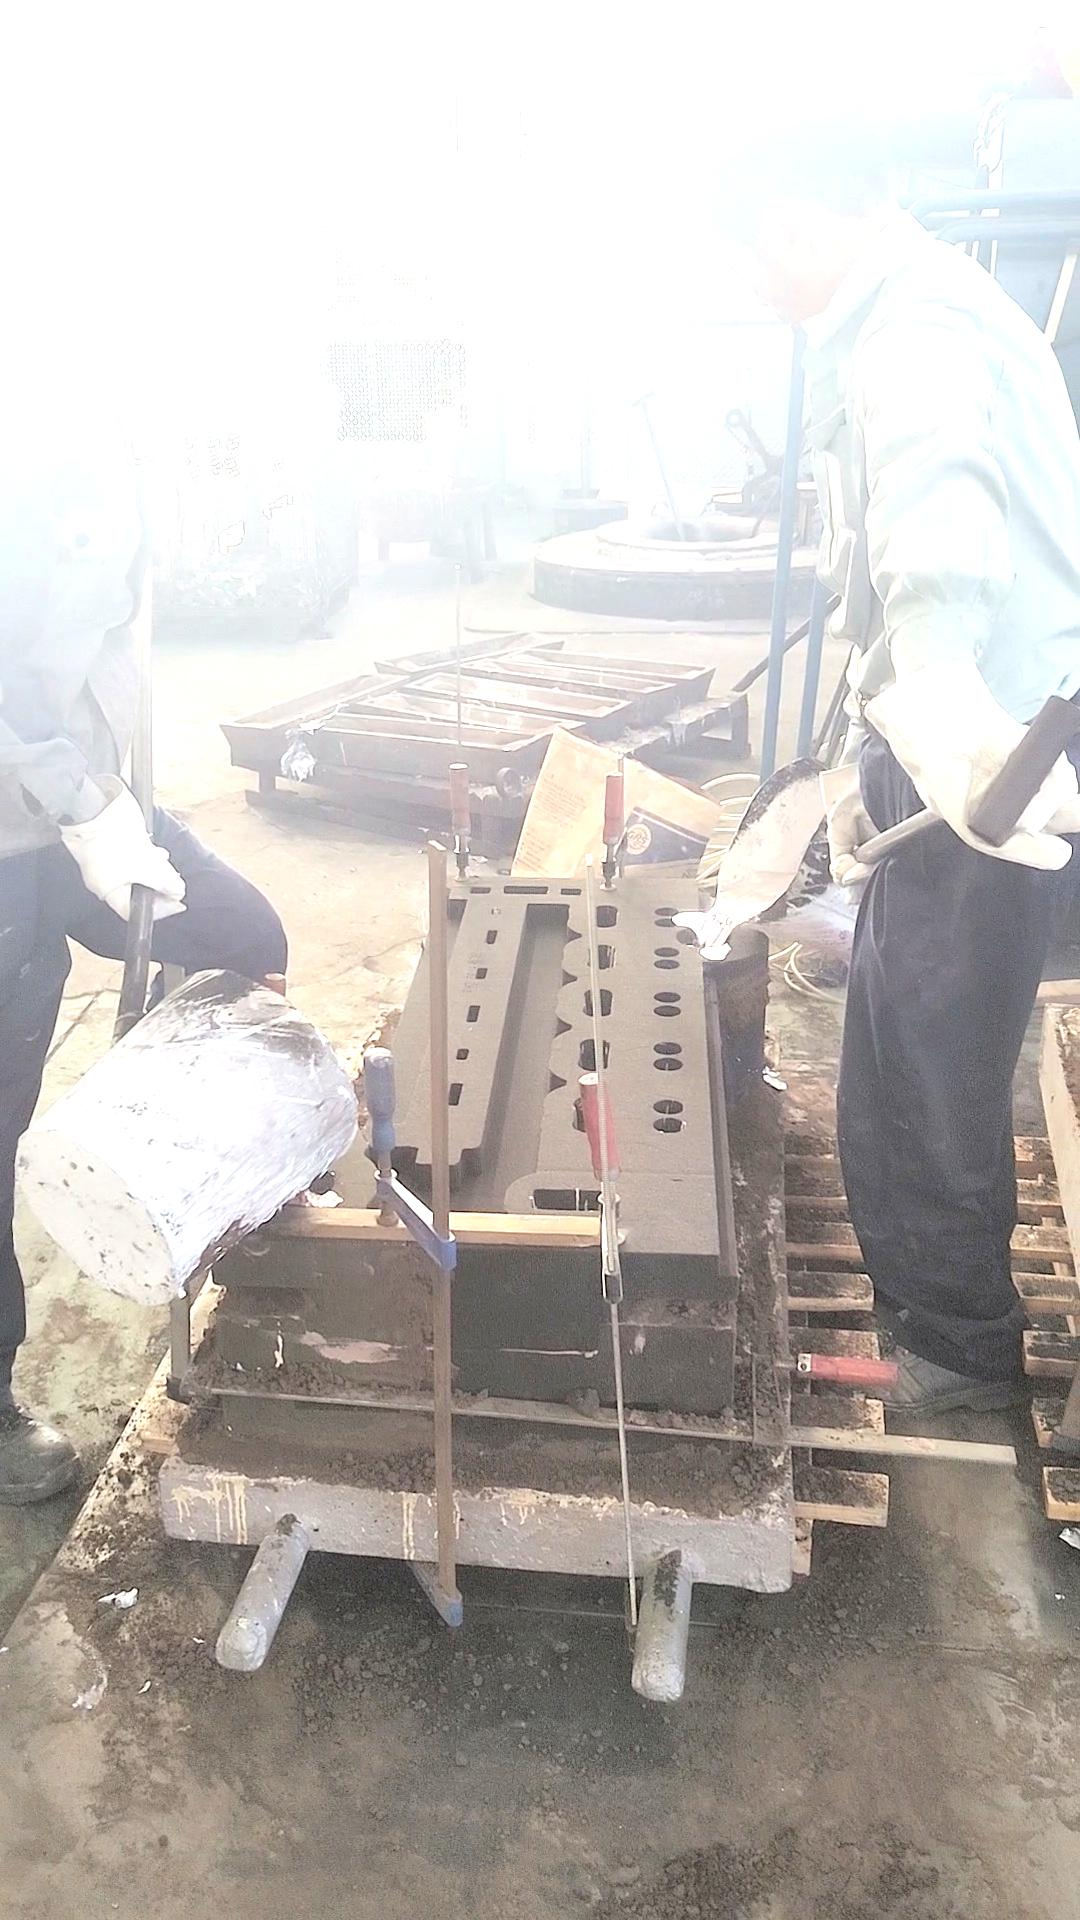pouring hole: (273, 1172, 331, 1211), (675, 924, 732, 948)
